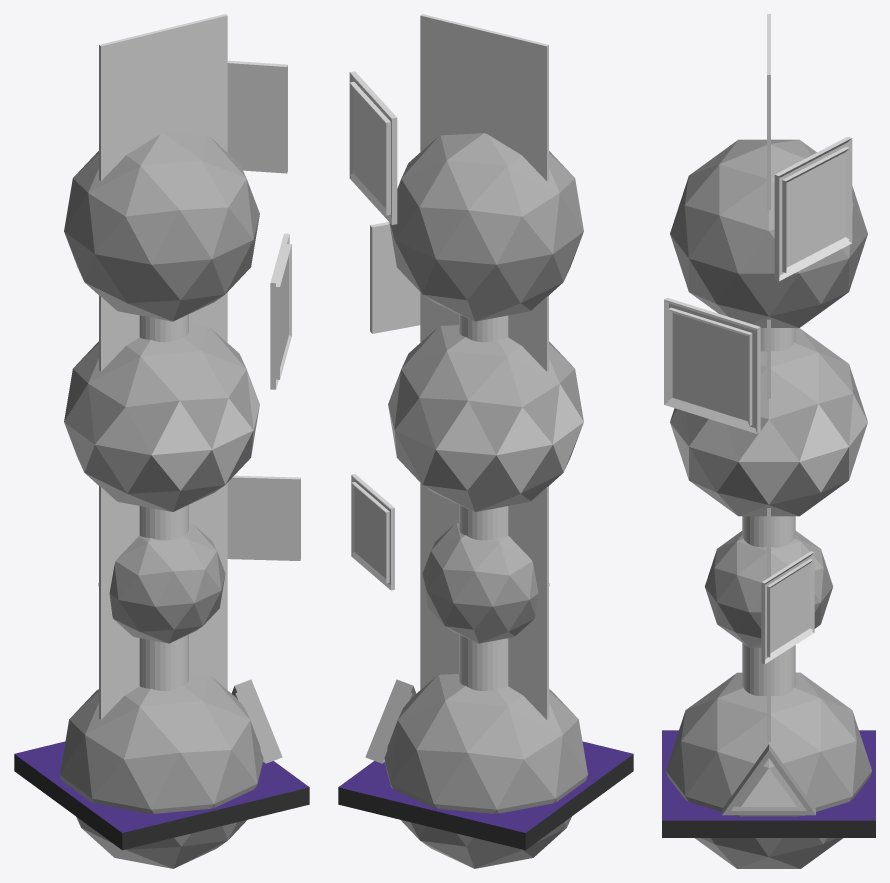
File: building_6.fbx
3 views of the same model, side by side, from view 1: azimuth 30°, elevation 25°; view 2: azimuth 150°, elevation 25°; view 3: azimuth 270°, elevation 25° (orthographic).
Parts seen in each view (by area): view 1: Cube.101, Icosphere.010, Icosphere.007, Icosphere.009, Icosphere.008, Base.007, Icosphere.013, Billboard 1.014|Billboard 1.004|Dupli|1, Billboard 1.012|Billboard 1.004|Dupli|1, Cylinder.004, Billboard 1.013|Billboard 1|Dupli|, Icosphere.012 (+1 smaller); view 2: Cube.101, Icosphere.010, Icosphere.007, Icosphere.009, Icosphere.008, Base.007, Icosphere.013, Cylinder.004, Billboard 1.014|Billboard 1|Dupli|, Billboard 1.013|Billboard 1.004|Dupli|1, Billboard 1.012|Billboard 1|Dupli|, Icosphere.012 (+2 smaller); view 3: Icosphere.007, Icosphere.010, Icosphere.009, Icosphere.013, Billboard 1.013|Billboard 1|Dupli|, Base.007, Icosphere.008, Billboard 1.014|Billboard 1|Dupli|, Cylinder.004, Billboard 1.012|Billboard 1|Dupli|, Billboard 1.013|Billboard 1.004|Dupli|1, Billboard 1.014|Billboard 1.004|Dupli|1 (+4 smaller).
Boxes of the visible parts, <box> form: Cube.101: <box>99,14,227,719</box>; Icosphere.010: <box>64,133,259,321</box>; Icosphere.007: <box>60,674,263,868</box>; Icosphere.009: <box>64,325,253,511</box>; Icosphere.008: <box>98,523,225,643</box>; Base.007: <box>14,741,309,850</box>; Icosphere.013: <box>64,369,259,493</box>; Billboard 1.014|Billboard 1.004|Dupli|1: <box>227,60,287,173</box>; Billboard 1.012|Billboard 1.004|Dupli|1: <box>227,475,300,560</box>; Cylinder.004: <box>139,314,188,690</box>; Billboard 1.013|Billboard 1|Dupli|: <box>276,244,291,379</box>; Icosphere.012: <box>231,679,282,763</box>; Cube.101: <box>420,14,548,719</box>; Icosphere.010: <box>389,133,583,321</box>; Icosphere.007: <box>384,674,587,868</box>; Icosphere.009: <box>394,325,583,511</box>; Icosphere.008: <box>422,523,549,643</box>; Base.007: <box>338,741,633,850</box>; Icosphere.013: <box>388,369,583,493</box>; Cylinder.004: <box>459,314,508,690</box>; Billboard 1.014|Billboard 1|Dupli|: <box>349,81,390,215</box>; Billboard 1.013|Billboard 1.004|Dupli|1: <box>370,222,420,333</box>; Billboard 1.012|Billboard 1|Dupli|: <box>351,482,389,583</box>; Icosphere.012: <box>365,679,416,763</box>; Icosphere.007: <box>666,672,871,868</box>; Icosphere.010: <box>670,139,867,327</box>; Icosphere.009: <box>670,328,867,516</box>; Icosphere.013: <box>670,394,867,504</box>; Billboard 1.013|Billboard 1|Dupli|: <box>668,307,752,426</box>; Base.007: <box>662,730,875,837</box>; Icosphere.008: <box>704,531,833,647</box>; Billboard 1.014|Billboard 1|Dupli|: <box>782,147,849,272</box>; Cylinder.004: <box>742,328,795,696</box>; Billboard 1.012|Billboard 1|Dupli|: <box>767,559,813,657</box>; Billboard 1.013|Billboard 1.004|Dupli|1: <box>664,297,760,433</box>; Billboard 1.014|Billboard 1.004|Dupli|1: <box>774,136,852,281</box>.
Size of the model in its own units: 984 by 3385 by 800.
